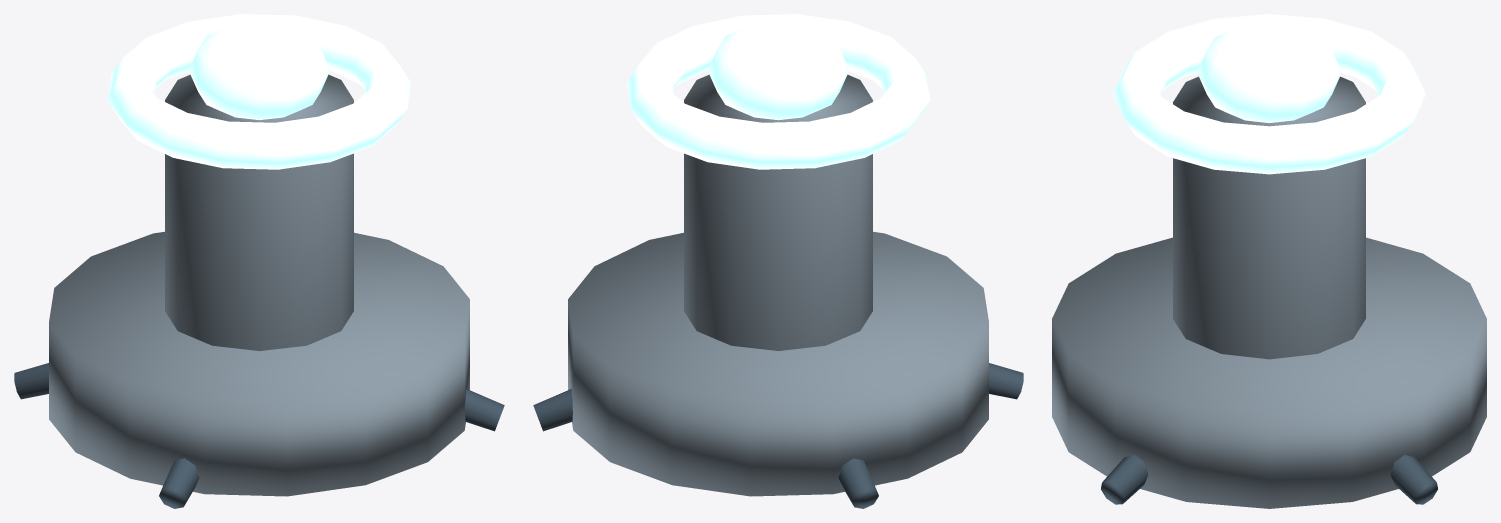
File: shieldBeacon.glb
3 renders of one model, left to right at view 1: azimuth 30°, elevation 25°; view 2: azimuth 150°, elevation 25°; view 3: azimuth 270°, elevation 25°, orthographic. The views are drawn at different scales.
Visible parts, largest first — view 1: deployment_base_1, projector_6, energy_emitter_7, energy_core_8, tripod_2, tripod_4, tripod_3; view 2: deployment_base_1, projector_6, energy_emitter_7, energy_core_8, tripod_3, tripod_5, tripod_2; view 3: deployment_base_1, projector_6, energy_emitter_7, energy_core_8, tripod_4, tripod_5.
Part boxes in pixels (x1,y1,x2,y2): deployment_base_1: (49, 231, 469, 496); projector_6: (165, 74, 353, 350); energy_emitter_7: (107, 14, 411, 169); energy_core_8: (188, 18, 330, 120); tripod_2: (159, 458, 199, 508); tripod_4: (465, 389, 504, 431); tripod_3: (14, 363, 48, 399); deployment_base_1: (568, 231, 988, 496); projector_6: (684, 74, 872, 350); energy_emitter_7: (626, 14, 930, 169); energy_core_8: (707, 18, 849, 120); tripod_3: (838, 458, 878, 508); tripod_5: (533, 389, 572, 431); tripod_2: (989, 363, 1023, 399); deployment_base_1: (1052, 237, 1486, 508); projector_6: (1173, 76, 1365, 359); energy_emitter_7: (1112, 14, 1426, 174); energy_core_8: (1197, 19, 1341, 122); tripod_4: (1101, 455, 1148, 504); tripod_5: (1390, 455, 1437, 504).
Size of the model in its own units: 0.72 by 0.7237 by 0.72.
